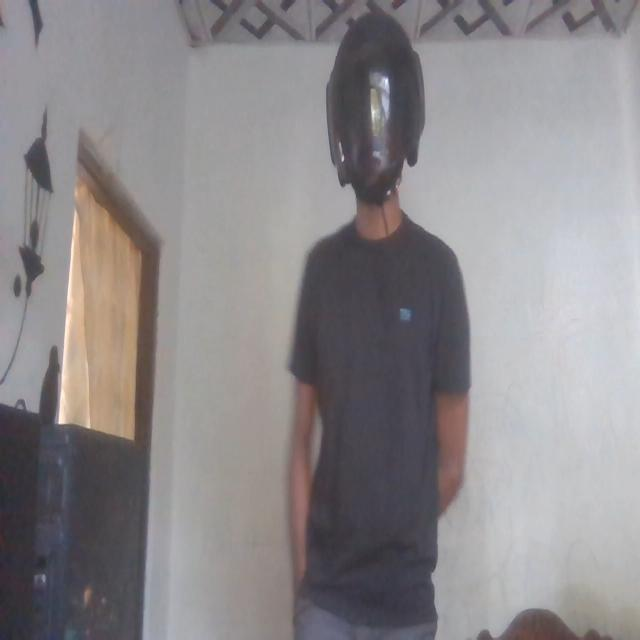Helmet_Wearer: (319, 2, 423, 246)
Person: (292, 8, 474, 640)
